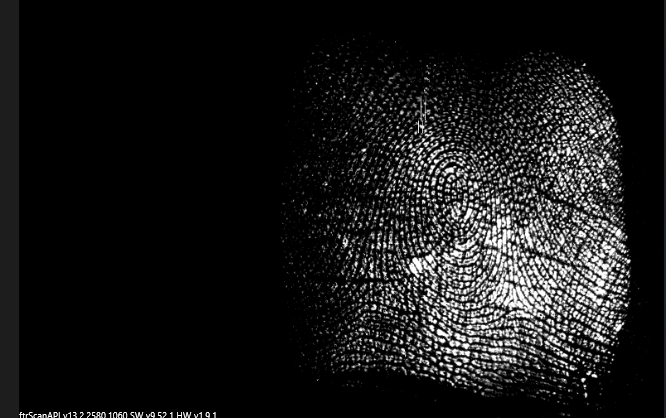nucelo: (443, 173, 470, 217)
verticilo: (498, 285, 529, 314), (343, 268, 367, 293)
